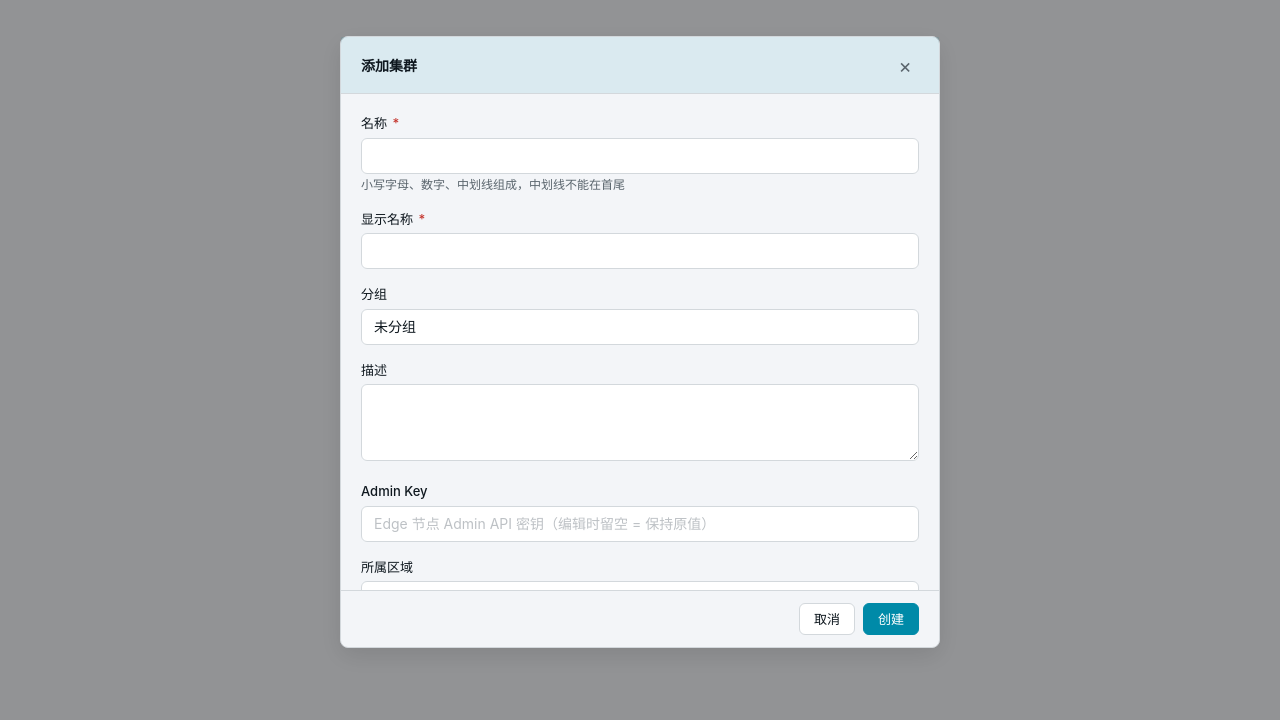
it: ClusterFormModal.vue - 交互保护与提示（B6） › 有修改：点 × 同样走放弃确认
Type "changed-again" into the 1st field.
click(640, 156); type("changed-again")  # box [361,138,919,174]
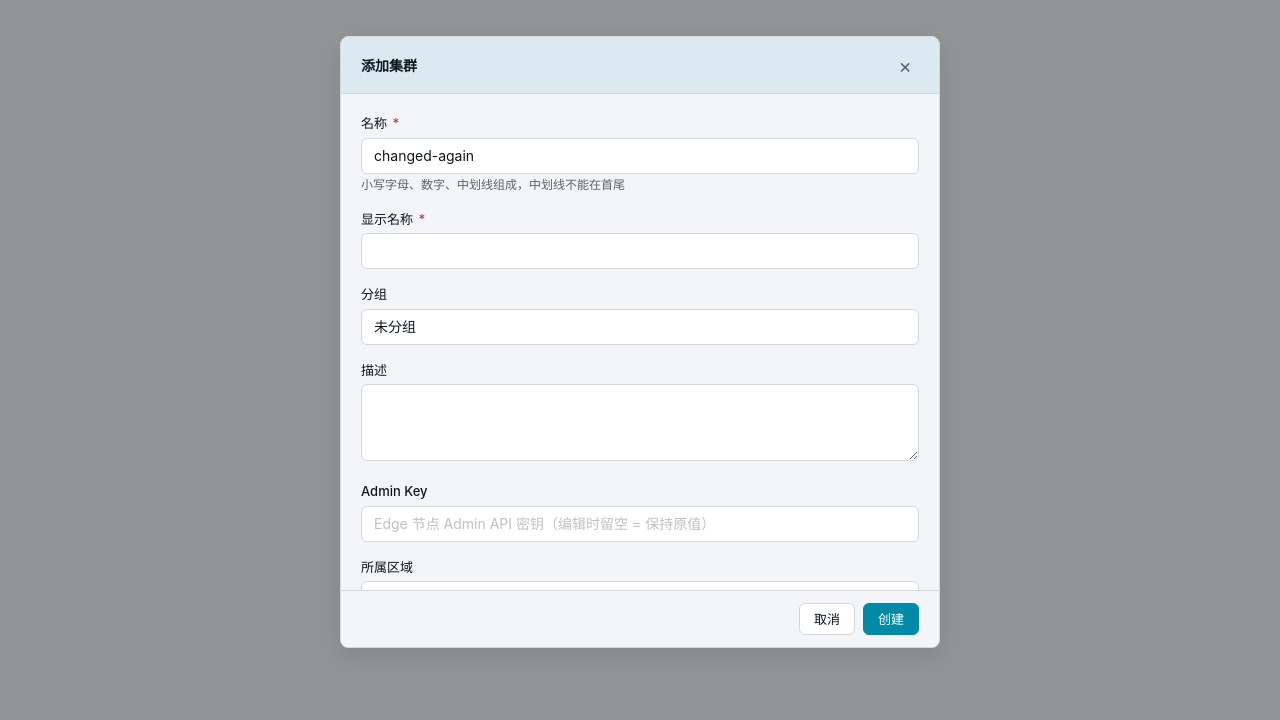
Click the button with class "modal-close".
click(905, 65)  # box [891,51,919,79]
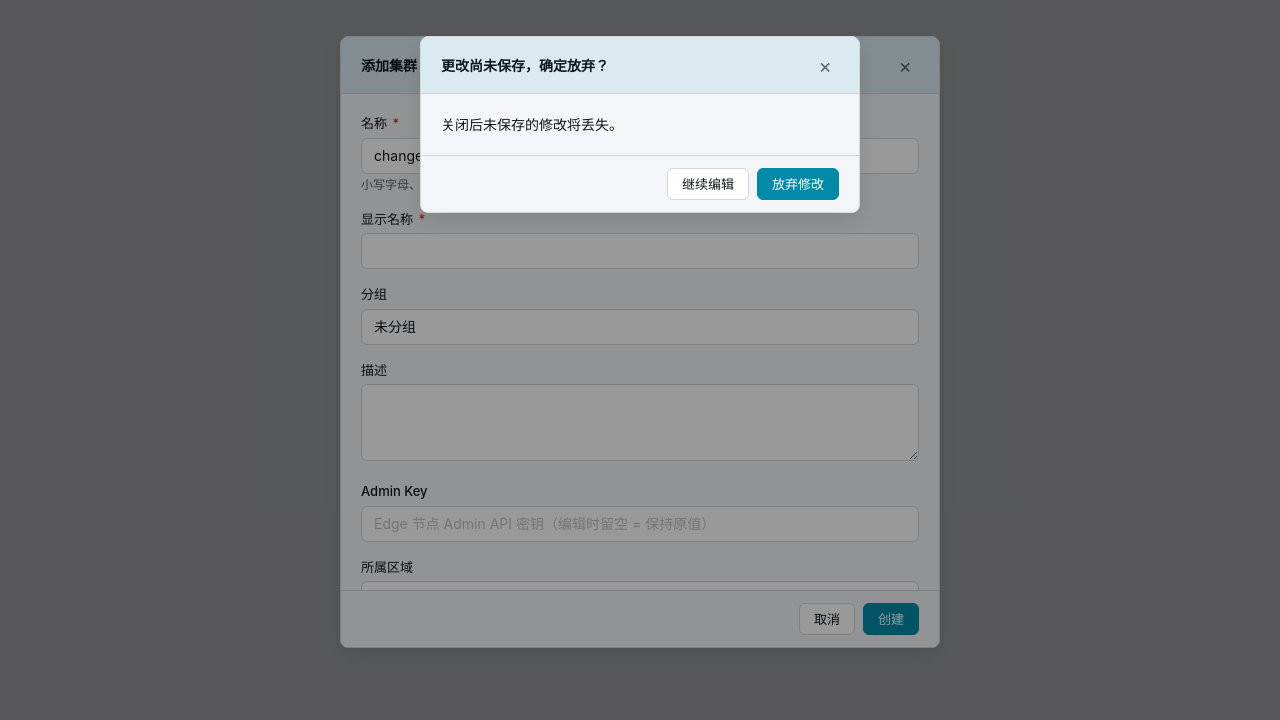
Check: the text "更改尚未保存，确定放弃？" is shown, box [441,54,609,76]
